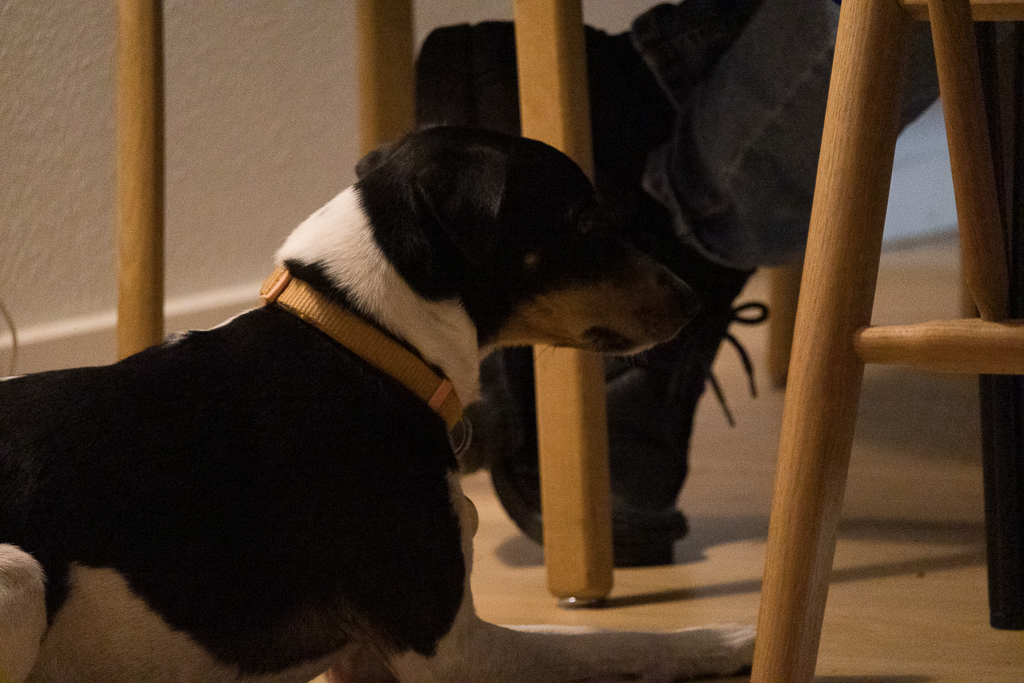Dog: (0, 116, 770, 683)
Humanoid: (409, 0, 957, 570)
